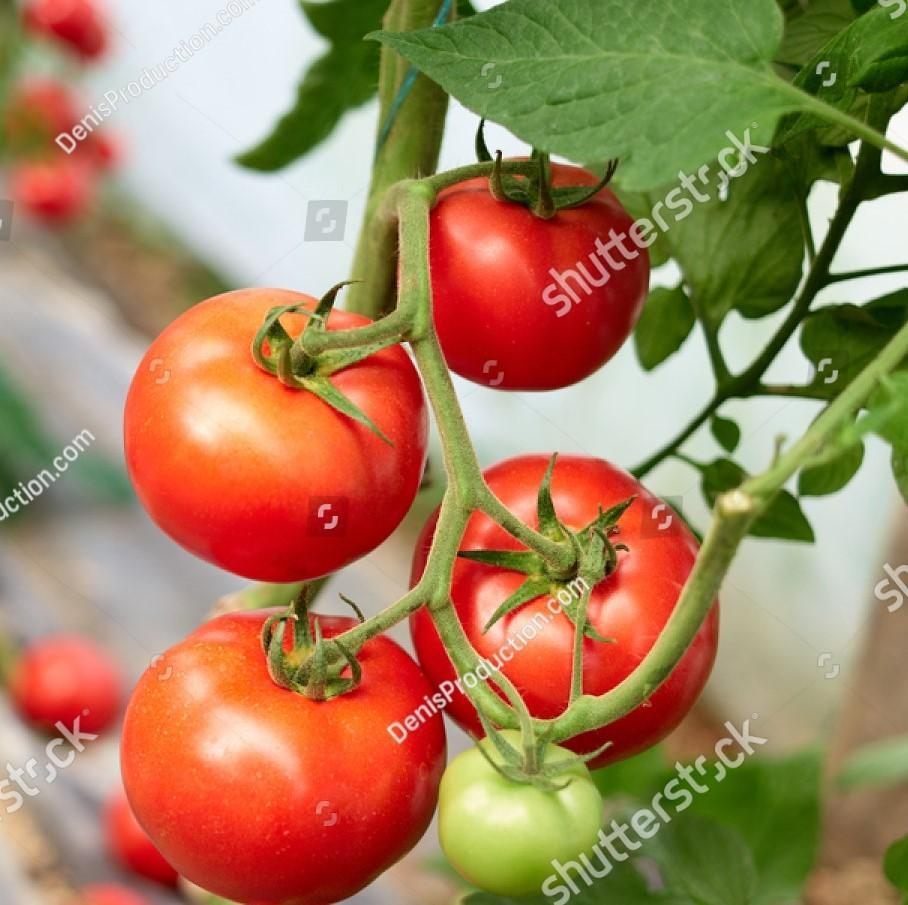healthy-tomato: (121, 580, 458, 905), (412, 456, 726, 791), (122, 288, 431, 587), (397, 154, 653, 397)
